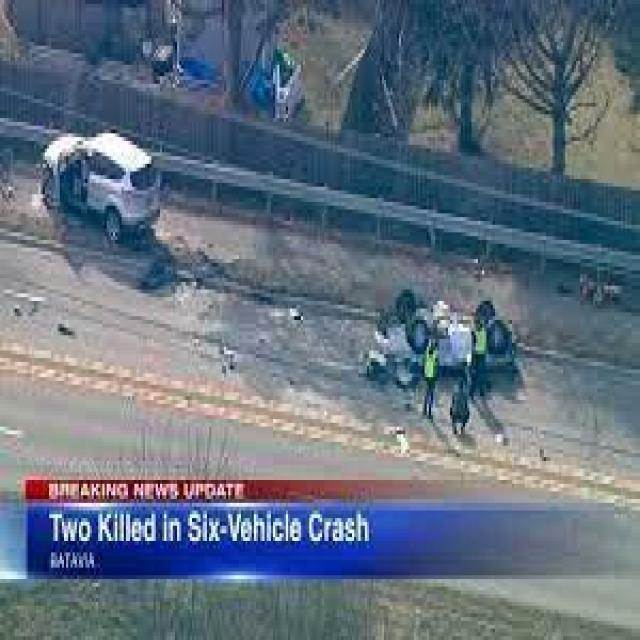severe: (367, 274, 520, 392)
